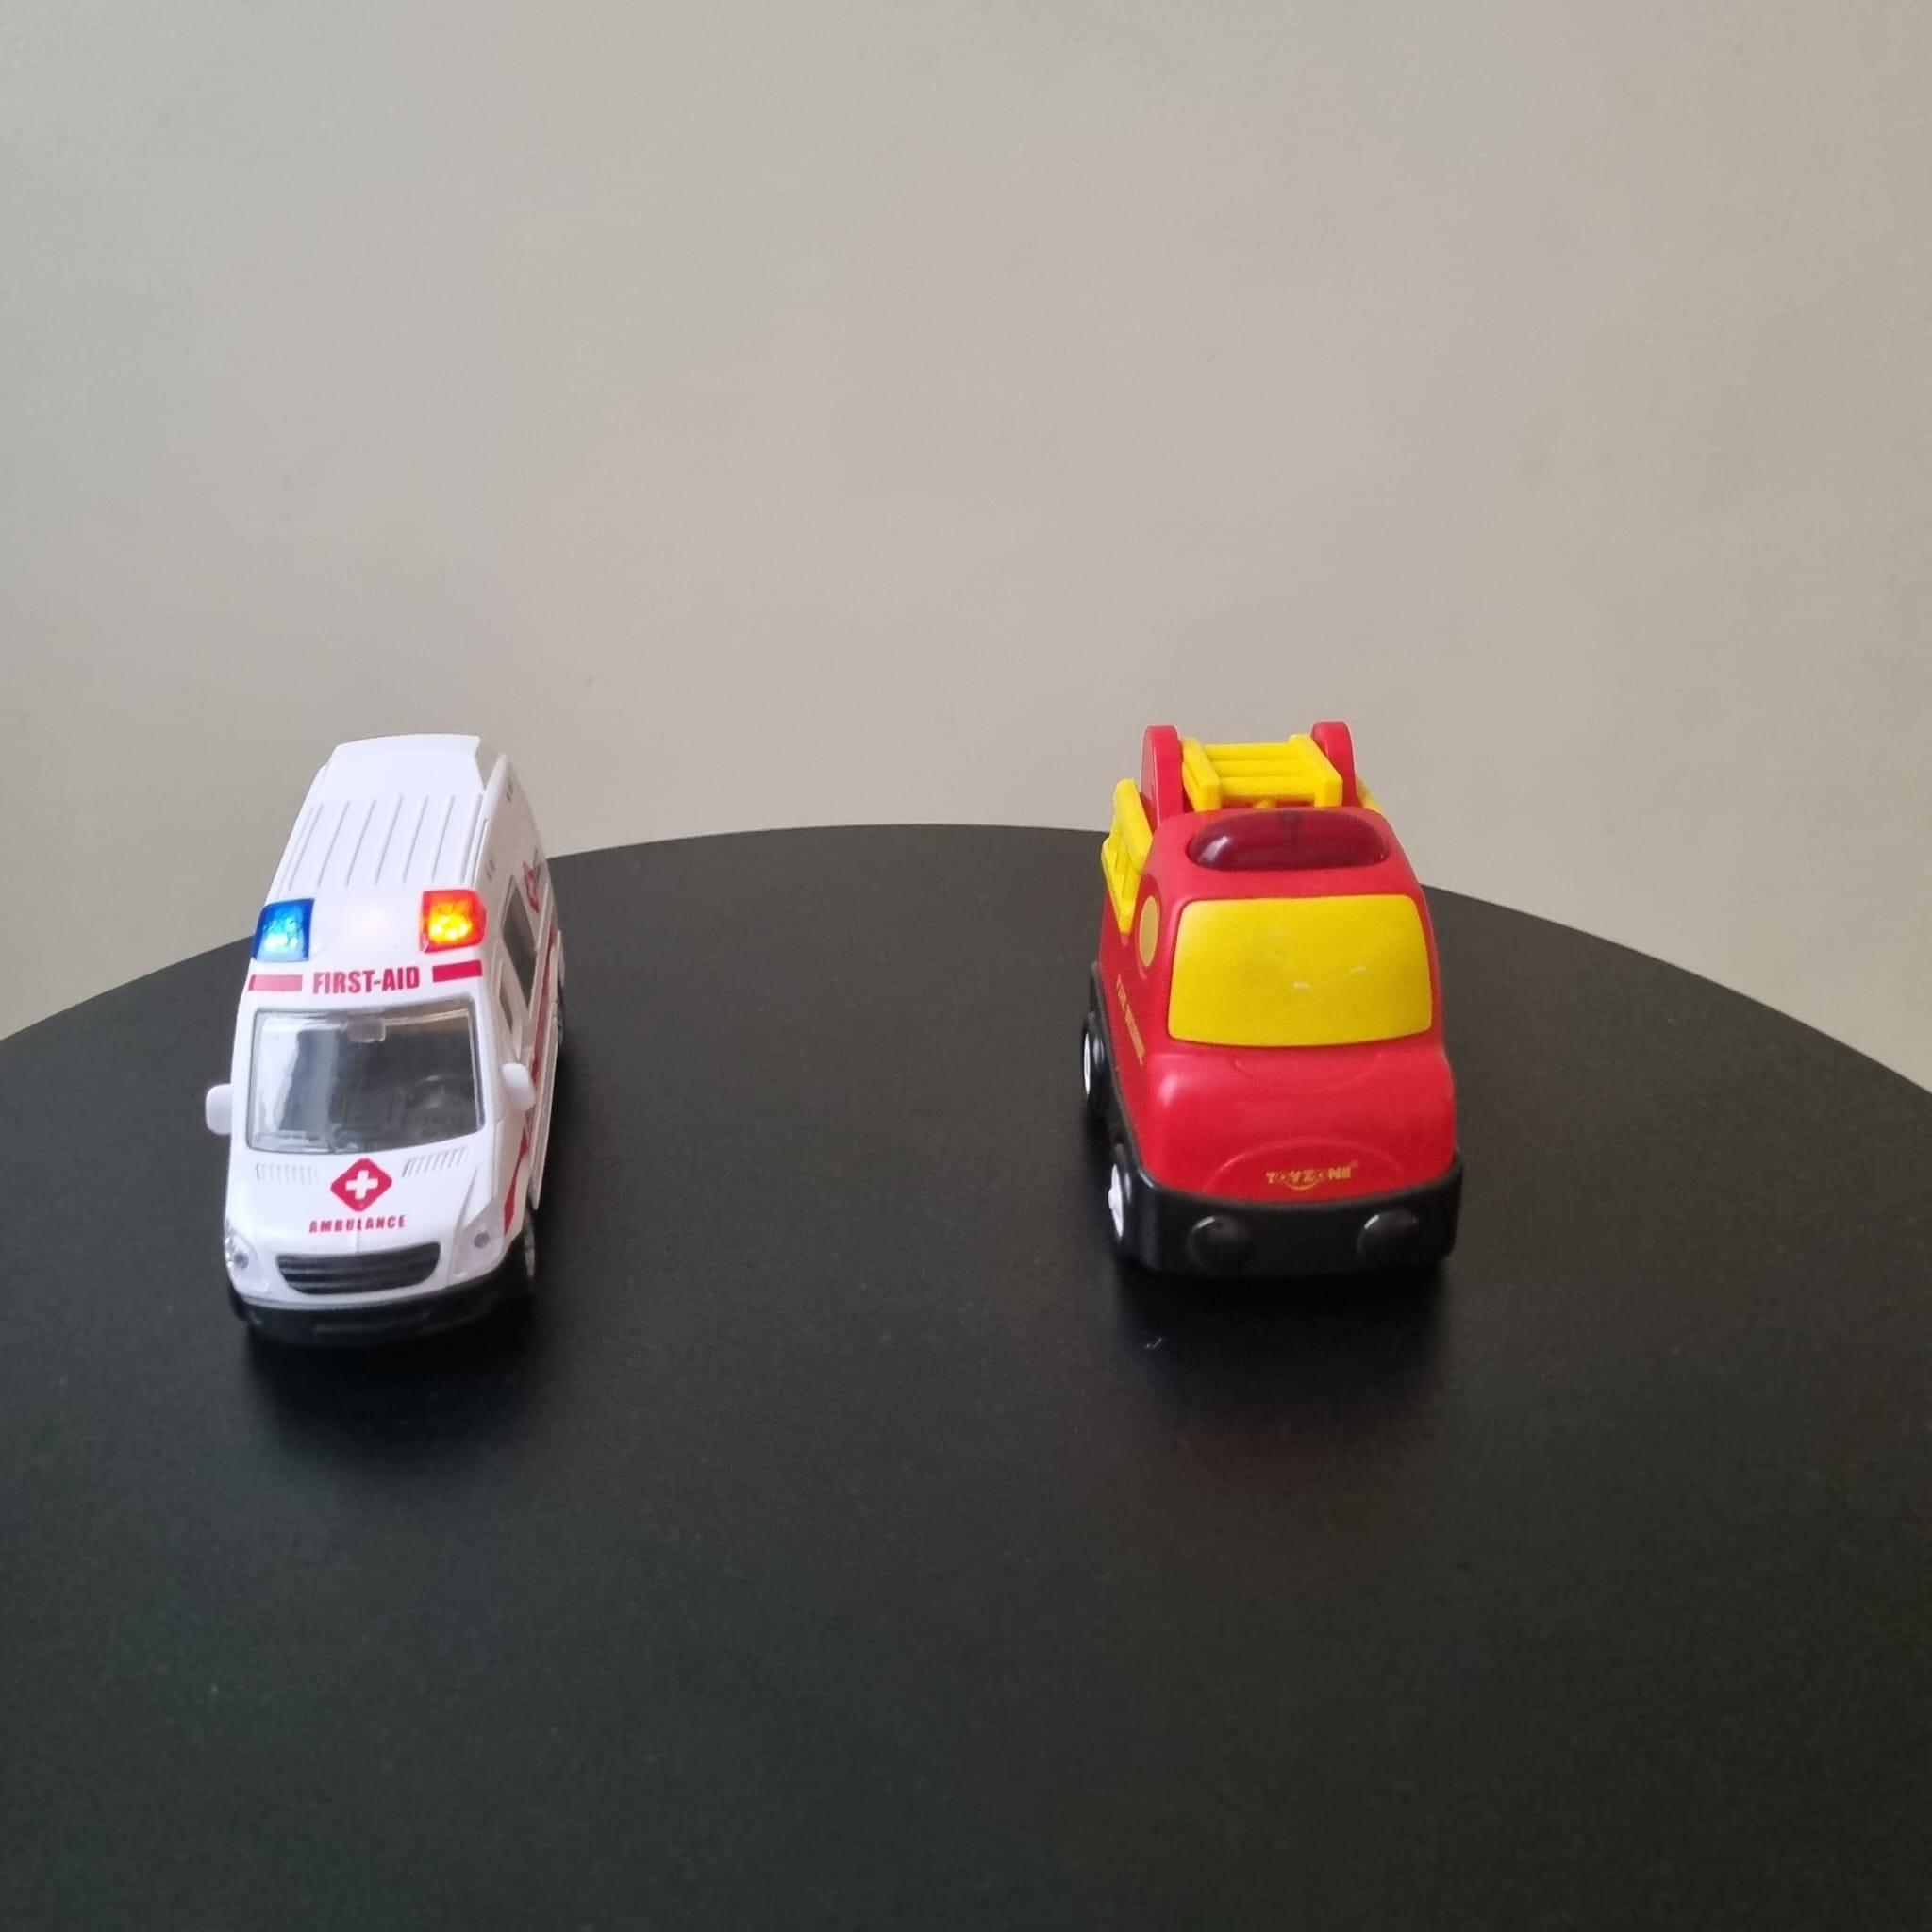ambulance_on: (200, 727, 573, 1371)
firetruck_off: (1072, 713, 1460, 1304)
